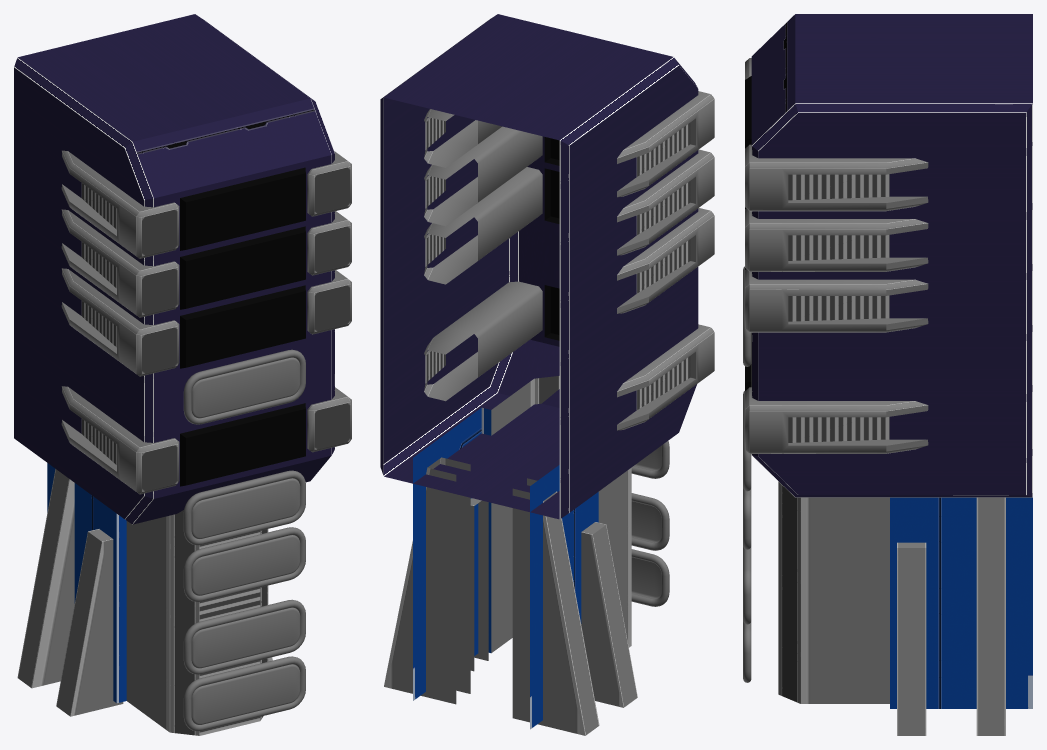
Rendered from menumachineB.fbx.
The picture shows the model from 3 angles, left to right: view 1: azimuth 30°, elevation 25°; view 2: azimuth 150°, elevation 25°; view 3: azimuth 270°, elevation 25°; orthographic projection. The views are drawn at different scales.
Parts seen in each view (by area): view 1: menumachineB; view 2: menumachineB; view 3: menumachineB.
Part boxes in pixels (left/top/right/bottom): menumachineB: left=14, top=14, right=351, bottom=735; menumachineB: left=380, top=14, right=714, bottom=735; menumachineB: left=743, top=14, right=1032, bottom=735.
Bounding box in the file's own units: 67.27 × 181 × 75.85.
